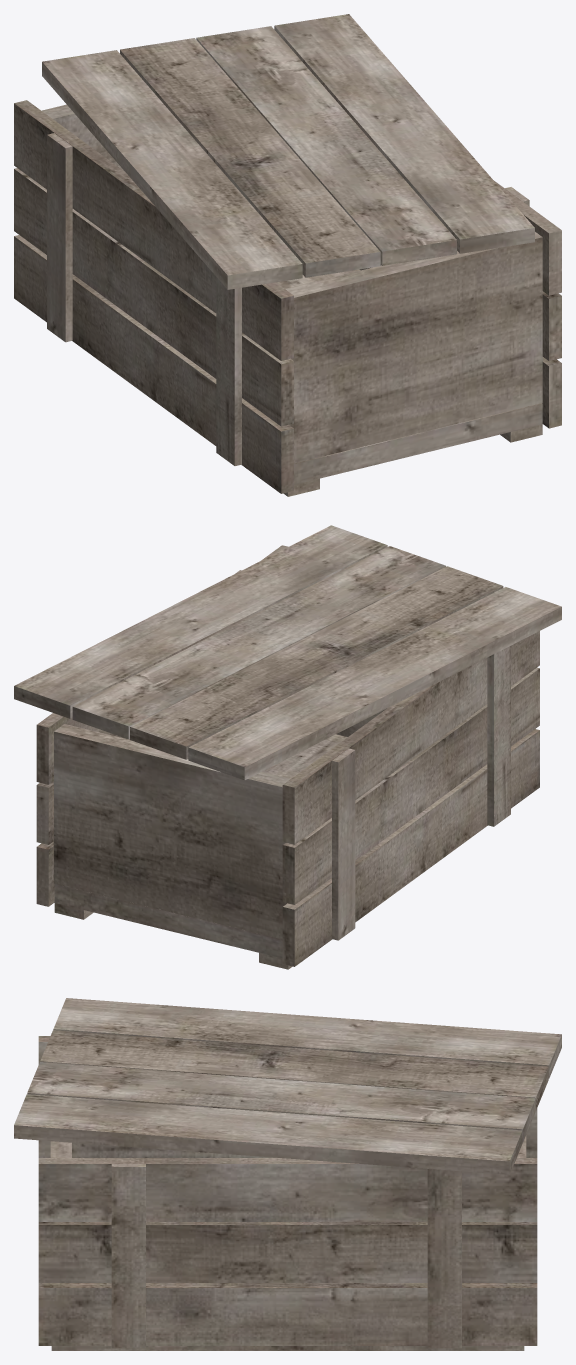
The model's file is simple_short_crate-opt.glb.
3 views of the same model, one above another, from view 1: azimuth 30°, elevation 25°; view 2: azimuth 150°, elevation 25°; view 3: azimuth 270°, elevation 25° (orthographic). The views are drawn at different scales.
Parts seen in each view (by area): view 1: Object_2; view 2: Object_2; view 3: Object_2.
Part boxes in pixels (x1,y1,x2,y2): Object_2: (14, 14, 561, 496); Object_2: (14, 525, 561, 969); Object_2: (14, 998, 561, 1350).
Bounding box in the file's own units: 3.12 × 1.9 × 4.43.
1 material, 1 textured.
